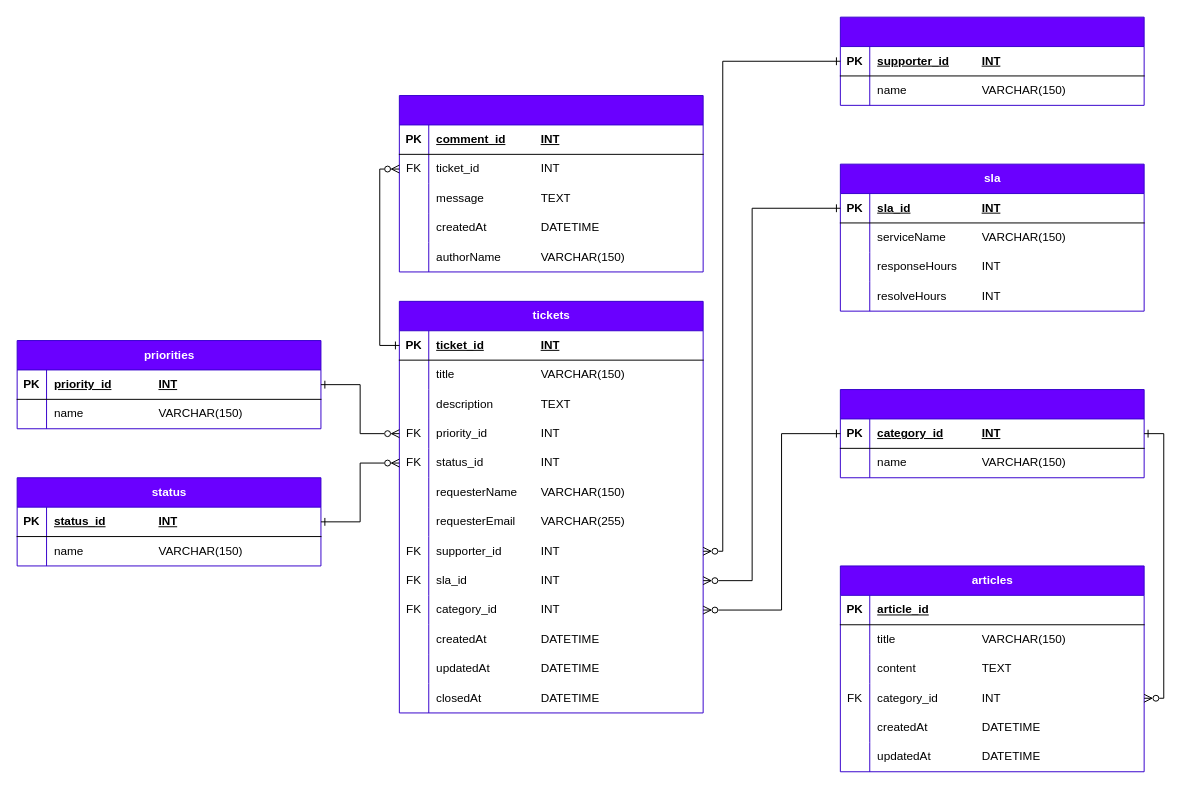
Some shapes in this 1190 by 789 pixel diagram are drawn without their labels. Here are the shapes that lost their labels. From the top down, the box of each, then its label:
(839, 16, 1144, 105): supporters
(398, 95, 703, 272): comments
(839, 389, 1144, 478): categories
